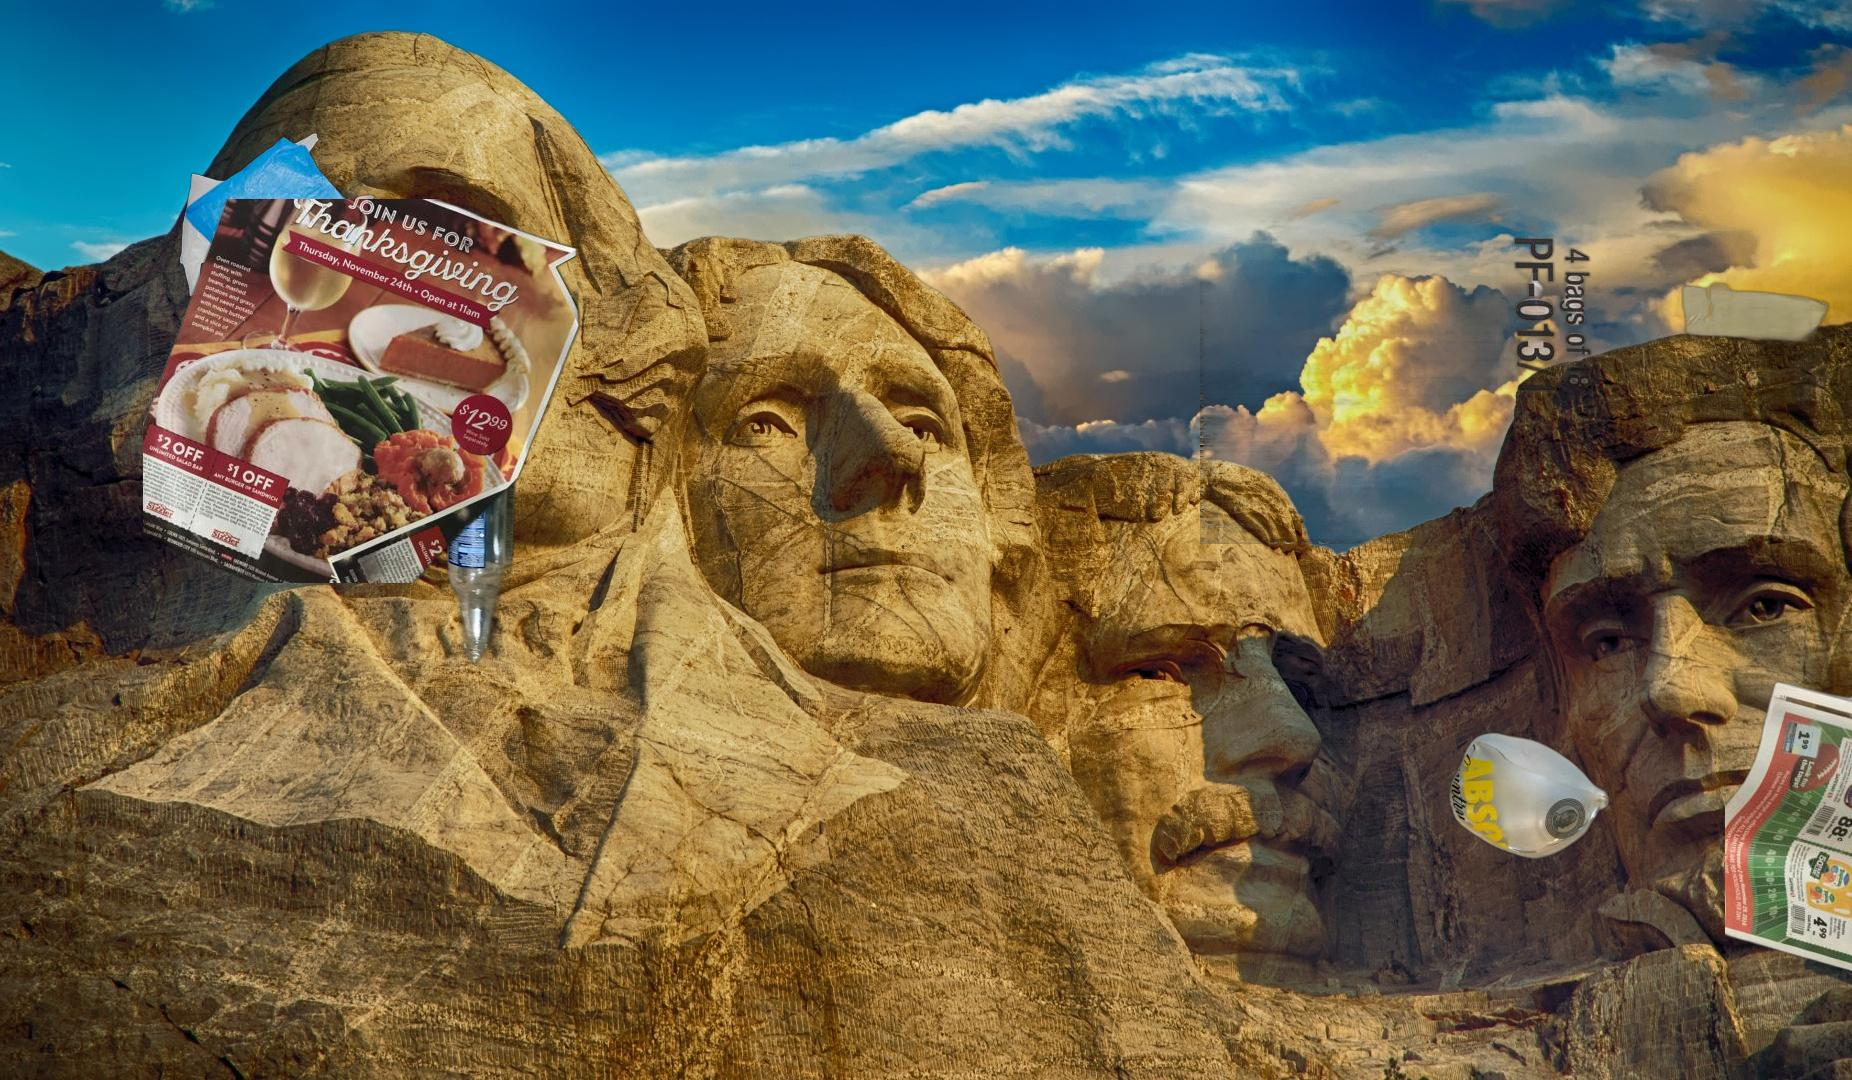glass: (1445, 729, 1613, 863), (443, 440, 521, 671)
paper: (143, 199, 585, 582), (1725, 678, 1852, 1013)
paper-bag: (1774, 657, 1852, 906)
plastic-bag: (177, 130, 396, 348)
trashbox-cardboard: (1200, 139, 1812, 544), (1490, 235, 1852, 535)
